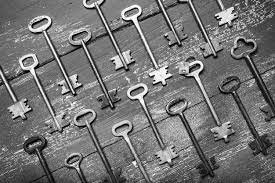key: (27, 13, 83, 97), (126, 82, 180, 169)
